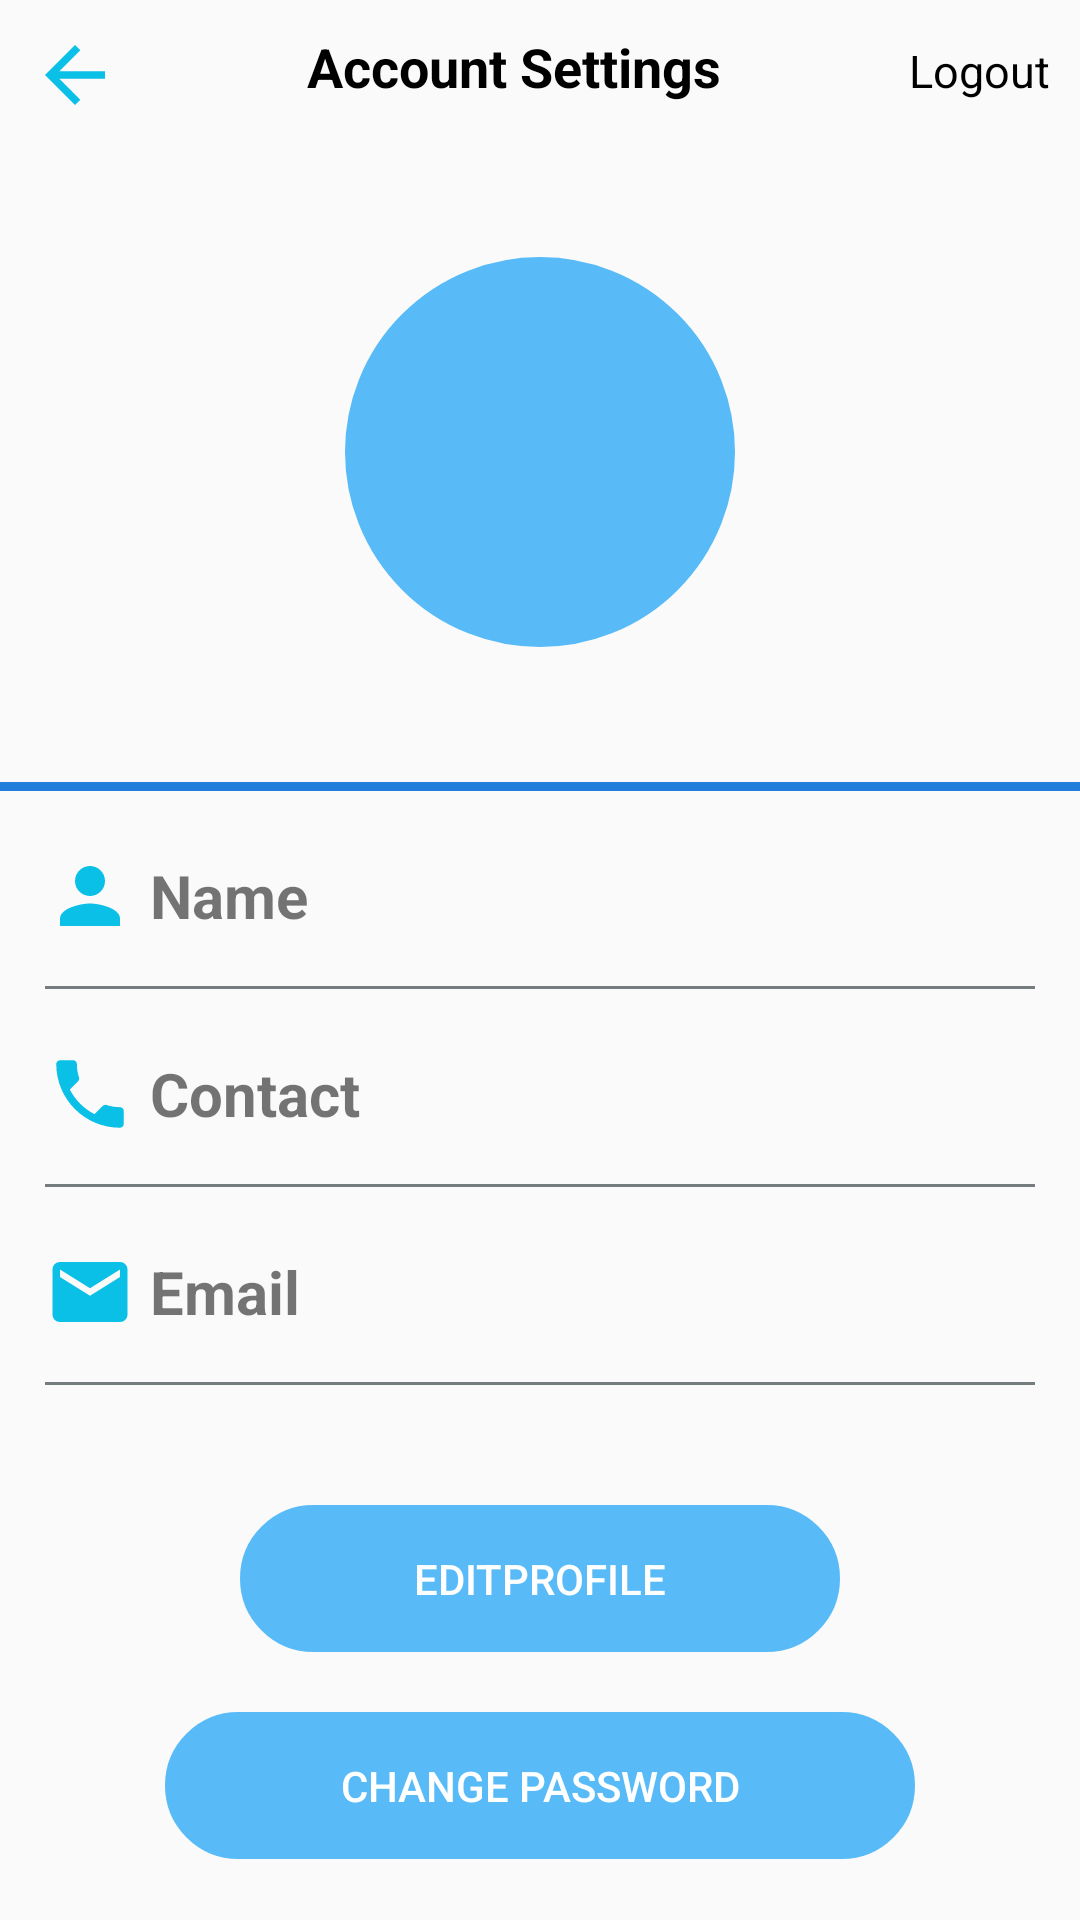

Locate icon controls on the screen. Image size 1080w x 1920h, boxes as (x1,y1,x2,y2).
arrow: (45,45,105,105)
person: (60,866,120,926)
phone: (56,1060,124,1128)
